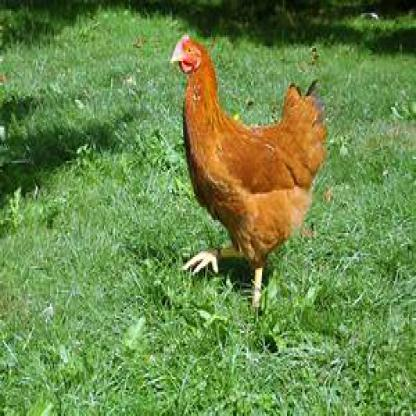chicken: (170, 35, 326, 307)
